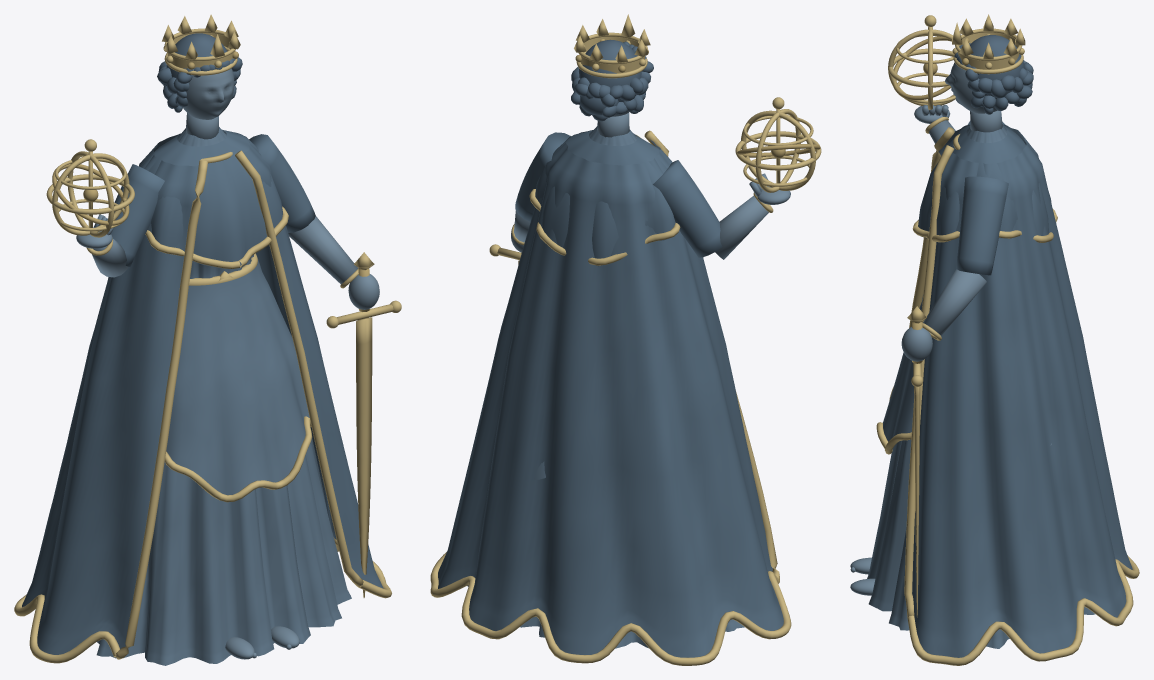
File: statue_sarlande.glb
3 views of the same model, side by side, from view 1: azimuth 30°, elevation 25°; view 2: azimuth 150°, elevation 25°; view 3: azimuth 270°, elevation 25° (orthographic). The views are drawn at different scales.
Visible parts, largest first — view 1: statue_sarlande; view 2: statue_sarlande; view 3: statue_sarlande.
Boxes of the visible parts, x1=… form: statue_sarlande: x1=14, y1=14, x2=401, y2=665; statue_sarlande: x1=430, y1=14, x2=821, y2=665; statue_sarlande: x1=850, y1=14, x2=1139, y2=665.
Bounding box in the file's own units: 18.26 × 29.6 × 13.69.
